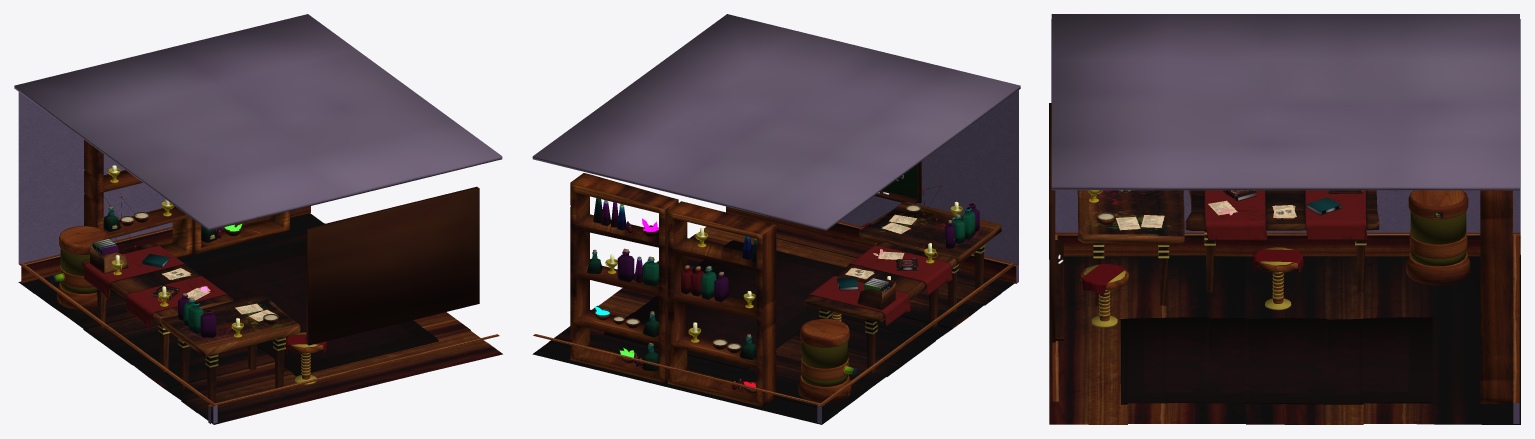
The model's file is laboratory_in_the_swamp.glb.
3 renders of one model, left to right at view 1: azimuth 30°, elevation 25°; view 2: azimuth 150°, elevation 25°; view 3: azimuth 270°, elevation 25°, orthographic. The views are drawn at different scales.
Parts seen in each view (by area): view 1: TECHO_0, PIZARRO_142, Plane001_2, PARED_005_140, Plane008_153, MESA_147, Box002_85, TELAS_64, POSIMAKER_144, MESA_65, Box001_49, PATAS_149 (+5 smaller); view 2: TECHO_0, Plane001_2, PARED_006_141, Box002_85, Box001_49, Plane008_153, MESA_147, TELAS_64, POSIMAKER_144, MESA_65, CRISTAL_145, PARED_004_51 (+7 smaller); view 3: TECHO_0, Plane001_2, Plane008_153, PARED_004_51, Box001_49, TELAS_64, MESA_147, POSIMAKER_144, MESA_65, PIZARRO_142, CRISTAL_145, PARED_005_140 (+5 smaller).
Boxes of the visible parts, left/top/right/bottom form: TECHO_0: left=14, top=14, right=502, bottom=230; PIZARRO_142: left=305, top=186, right=479, bottom=345; Plane001_2: left=18, top=213, right=502, bottom=424; PARED_005_140: left=18, top=92, right=310, bottom=283; Plane008_153: left=196, top=245, right=438, bottom=376; MESA_147: left=161, top=294, right=300, bottom=356; Box002_85: left=84, top=140, right=192, bottom=258; TELAS_64: left=84, top=245, right=227, bottom=329; POSIMAKER_144: left=50, top=226, right=110, bottom=309; MESA_65: left=81, top=242, right=233, bottom=323; Box001_49: left=192, top=211, right=289, bottom=254; PATAS_149: left=179, top=337, right=284, bottom=404; TECHO_0: left=532, top=14, right=1020, bottom=230; Plane001_2: left=532, top=226, right=1014, bottom=424; PARED_006_141: left=726, top=90, right=1018, bottom=283; Box002_85: left=667, top=201, right=776, bottom=406; Box001_49: left=570, top=173, right=678, bottom=382; Plane008_153: left=603, top=240, right=845, bottom=369; MESA_147: left=859, top=202, right=1001, bottom=262; TELAS_64: left=806, top=245, right=952, bottom=326; POSIMAKER_144: left=798, top=318, right=858, bottom=402; MESA_65: left=804, top=240, right=956, bottom=322; CRISTAL_145: left=802, top=341, right=847, bottom=386; PARED_004_51: left=817, top=263, right=1016, bottom=423; TECHO_0: left=1051, top=14, right=1519, bottom=190; Plane001_2: left=1049, top=255, right=1520, bottom=424; Plane008_153: left=1120, top=317, right=1432, bottom=404; PARED_004_51: left=1051, top=19, right=1520, bottom=256; Box001_49: left=1480, top=190, right=1512, bottom=403; TELAS_64: left=1204, top=190, right=1367, bottom=241; MESA_147: left=1077, top=190, right=1184, bottom=245; POSIMAKER_144: left=1406, top=190, right=1470, bottom=285; MESA_65: left=1185, top=190, right=1379, bottom=230; PIZARRO_142: left=1049, top=103, right=1063, bottom=342; CRISTAL_145: left=1410, top=211, right=1466, bottom=266; PARED_005_140: left=1513, top=235, right=1519, bottom=423.
Size of what is drawn, in the model's own units: 50.71 by 32.78 by 58.54.
Materials: 60 (50 with a texture image).
